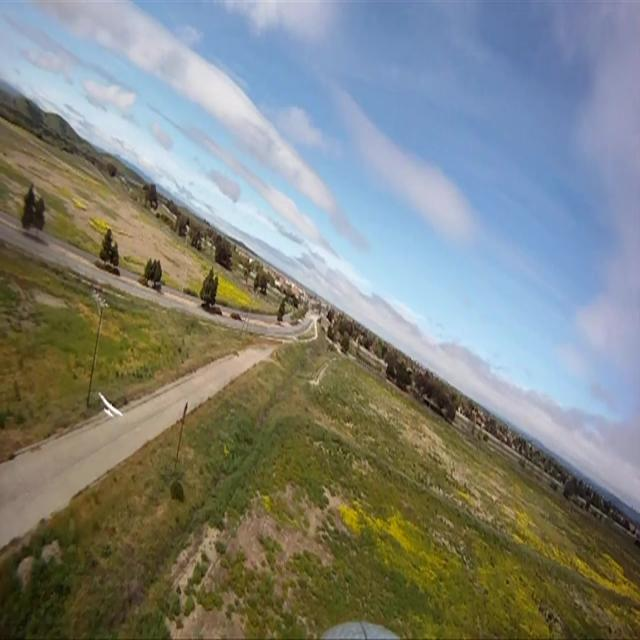iha: (34, 391, 59, 418)
